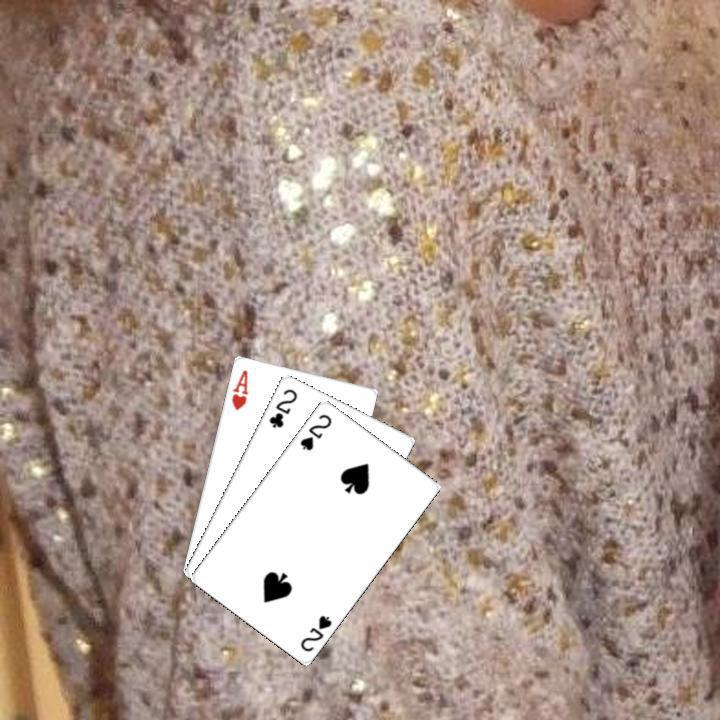2: (295, 409, 334, 452), (296, 610, 334, 653), (264, 384, 299, 430)
A: (227, 365, 250, 412)
